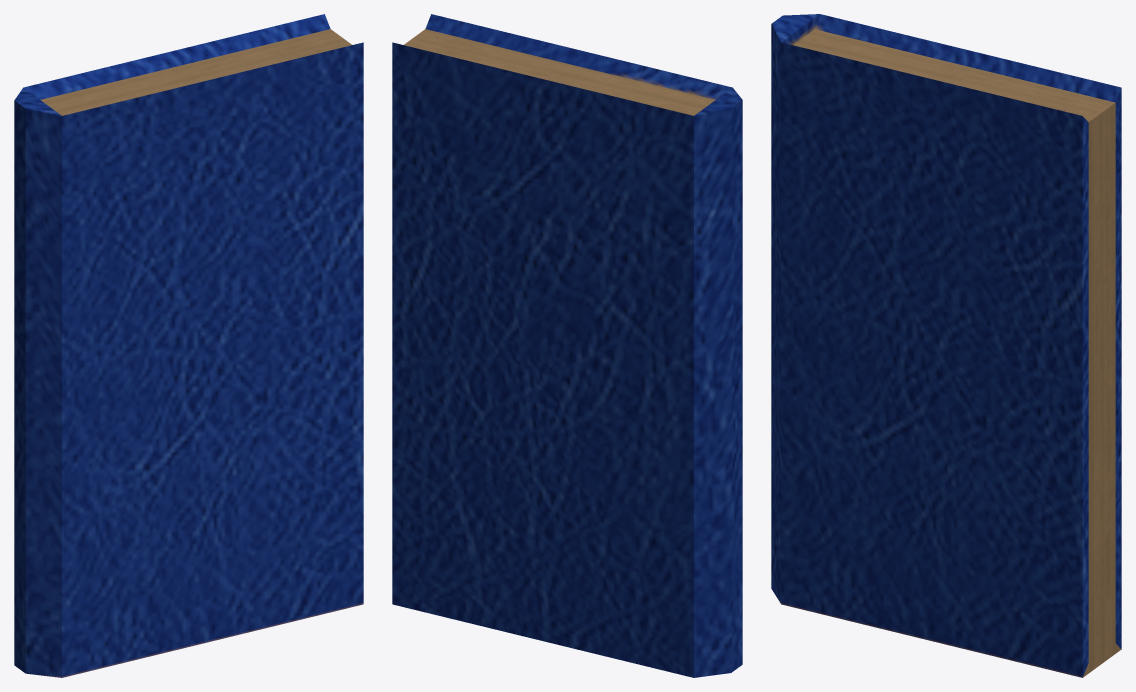
The model's file is Book color 6.fbx.
The picture shows the model from 3 angles, left to right: view 1: azimuth 30°, elevation 25°; view 2: azimuth 150°, elevation 25°; view 3: azimuth 330°, elevation 25°; orthographic projection.
Visible parts, largest first — view 1: Cube; view 2: Cube; view 3: Cube.
Part boxes in pixels (<box>): Cube: <box>14,14,363,677</box>; Cube: <box>392,14,742,677</box>; Cube: <box>771,14,1121,677</box>.
Size of the model in its own units: 121 by 201 by 25.05.
Materials: 1 (1 with a texture image).
